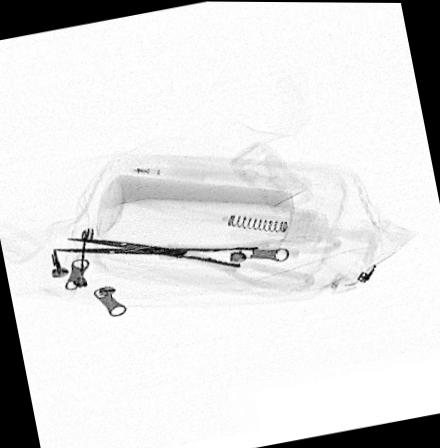Scissors: (49, 231, 340, 293)
